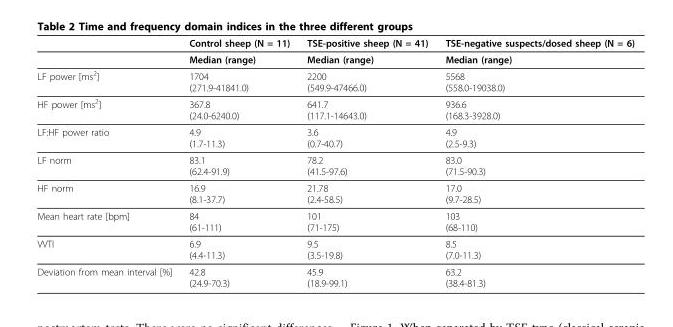table: (36, 36, 633, 288)
table column: (436, 36, 633, 288), (36, 36, 179, 288), (297, 36, 436, 288), (179, 36, 297, 288)
table column header: (36, 36, 633, 50)
table row: (36, 94, 633, 123), (36, 66, 633, 94), (36, 123, 633, 151), (36, 151, 633, 179), (36, 179, 633, 207), (36, 207, 633, 235), (36, 235, 633, 263), (36, 263, 633, 288), (36, 50, 633, 66), (36, 36, 633, 50)
